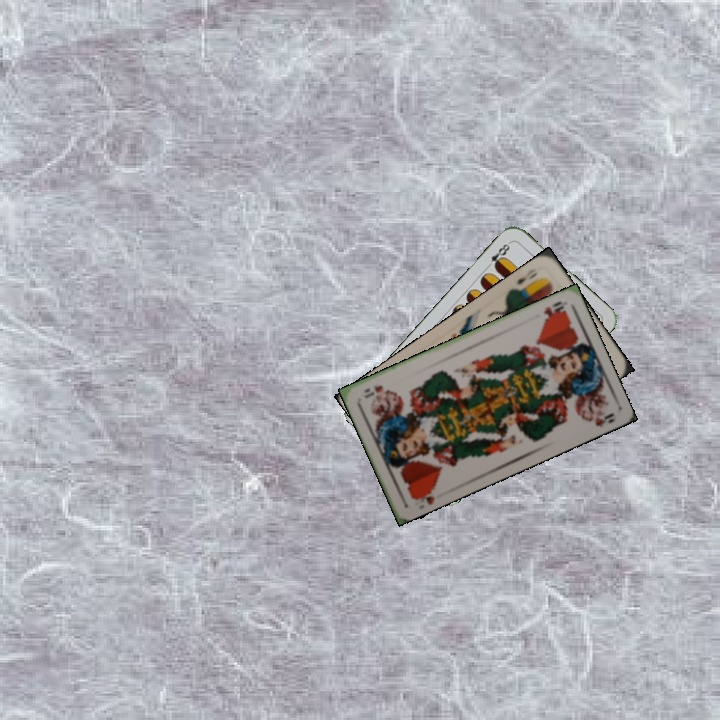E8: (482, 238, 514, 271)
EO: (509, 268, 546, 294)
HO: (539, 297, 568, 322), (408, 483, 437, 507)
